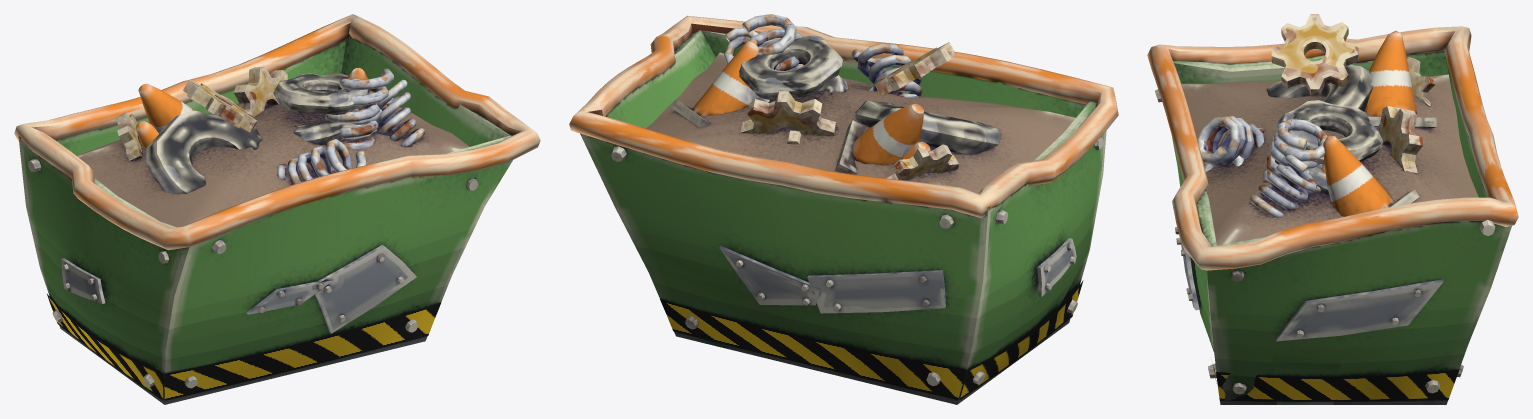
File: StorageCrate.glb
The picture shows the model from 3 angles, left to right: view 1: azimuth 30°, elevation 25°; view 2: azimuth 150°, elevation 25°; view 3: azimuth 270°, elevation 25°; orthographic projection. The views are drawn at different scales.
Parts seen in each view (by area): view 1: Body, Trim, Fill_6, Hazard, Plates, Fill_6_Tire1, Fill_6_Tire10, Fill_6_Spring3, Fill_6_Spring6, Fill_6_Spring9, Fill_6_Cog2, Bolts (+4 smaller); view 2: Body, Trim, Fill_6, Hazard, Plates, Fill_6_Tire10, Fill_6_Cone8, Fill_6_Tire1, Fill_6_Cog2, Fill_6_Cone4, Fill_6_Spring6, Bolts (+4 smaller); view 3: Body, Trim, Fill_6, Plates, Hazard, Fill_6_Cog11, Fill_6_Cone4, Fill_6_Tire10, Fill_6_Cone8, Fill_6_Spring6, Fill_6_Spring9, Fill_6_Spring3 (+5 smaller).
Part boxes in pixels (x1,y1,x2,y2): Body: [18, 35, 512, 404]; Trim: [14, 14, 540, 250]; Fill_6: [76, 73, 469, 227]; Hazard: [47, 294, 441, 400]; Plates: [61, 244, 416, 333]; Fill_6_Tire1: [146, 110, 262, 194]; Fill_6_Tire10: [273, 73, 371, 114]; Fill_6_Spring3: [325, 68, 393, 149]; Fill_6_Spring6: [277, 139, 366, 184]; Fill_6_Spring9: [376, 79, 425, 146]; Fill_6_Cog2: [233, 66, 287, 117]; Bolts: [28, 158, 478, 388]; Body: [580, 30, 1106, 404]; Trim: [569, 15, 1118, 218]; Fill_6: [646, 52, 1075, 194]; Hazard: [660, 280, 1083, 399]; Plates: [719, 238, 1076, 313]; Fill_6_Tire10: [739, 35, 843, 99]; Fill_6_Cone8: [835, 103, 923, 174]; Fill_6_Tire1: [855, 100, 1000, 154]; Fill_6_Cog2: [740, 91, 836, 135]; Fill_6_Cone4: [670, 40, 758, 127]; Fill_6_Spring6: [851, 43, 922, 97]; Bolts: [611, 137, 1103, 386]; Body: [1172, 51, 1511, 404]; Trim: [1147, 26, 1518, 270]; Fill_6: [1181, 74, 1478, 245]; Plates: [1179, 234, 1443, 341]; Hazard: [1212, 363, 1459, 401]; Fill_6_Cog11: [1271, 14, 1358, 96]; Fill_6_Cone4: [1323, 136, 1419, 216]; Fill_6_Tire10: [1276, 100, 1382, 164]; Fill_6_Cone8: [1365, 30, 1436, 128]; Fill_6_Spring6: [1197, 116, 1264, 165]; Fill_6_Spring9: [1249, 154, 1317, 217]; Fill_6_Spring3: [1262, 119, 1327, 182].
Size of the model in its own units: 6.56 by 4.33 by 4.76.
43 materials, 43 textured.
